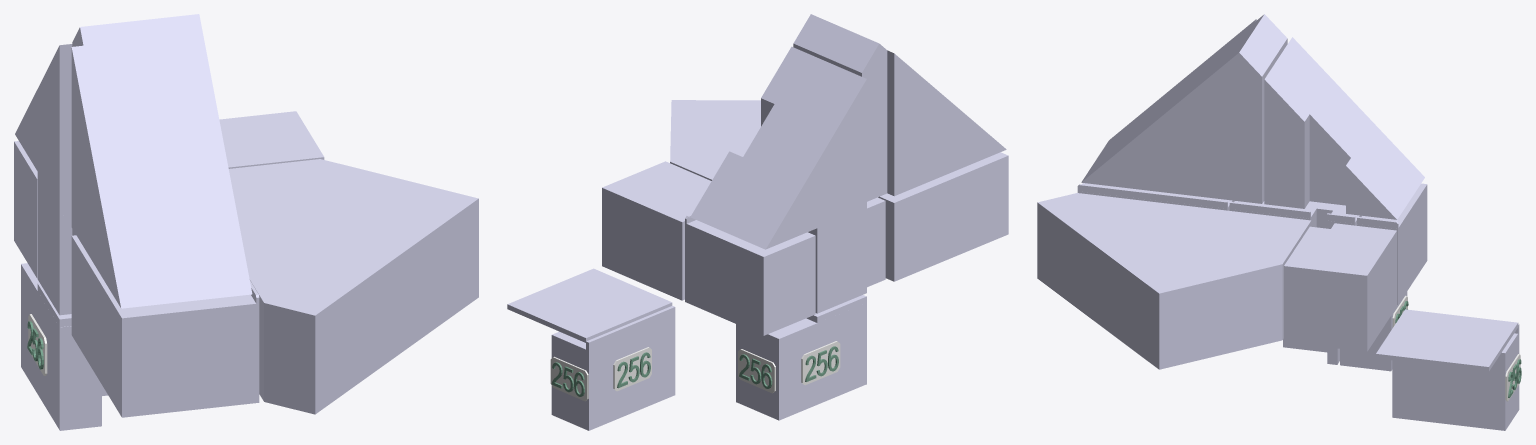
3 renders of one model, left to right at view 1: azimuth 30°, elevation 25°; view 2: azimuth 150°, elevation 25°; view 3: azimuth 270°, elevation 25°, orthographic. The views are drawn at different scales.
Parts seen in each view (by area): view 1: g_5, g_2, g_6, g_12, g_4, g_10, g_11, g_9, g_0, g_3, g_21; view 2: g_2, g_3, g_9, g_6, g_10, g_1, g_4, g_13, g_5, g_0, g_12, g_11 (+5 smaller); view 3: g_5, g_2, g_3, g_10, g_1, g_13, g_9, g_7, g_6, g_4, g_0, g_12.
Part boxes in pixels (box(x1,y1,x2,y2)): g_5: box(228, 159, 478, 414); g_2: box(71, 14, 252, 308); g_6: box(71, 235, 259, 417); g_12: box(32, 282, 108, 430); g_4: box(37, 44, 72, 207); g_10: box(219, 111, 324, 168); g_11: box(37, 173, 72, 315); g_9: box(14, 141, 37, 278); g_0: box(21, 263, 39, 385); g_3: box(15, 89, 37, 170); g_21: box(28, 314, 47, 375); g_2: box(793, 14, 1006, 201); g_3: box(686, 46, 839, 249); g_9: box(685, 214, 815, 335); g_6: box(878, 152, 1008, 281); g_10: box(602, 161, 711, 300); g_1: box(551, 305, 675, 430); g_4: box(792, 67, 866, 228); g_13: box(507, 268, 672, 342); g_5: box(670, 100, 760, 180); g_0: box(736, 323, 805, 420); g_12: box(795, 295, 866, 409); g_11: box(808, 208, 866, 313); g_5: box(1037, 193, 1311, 369); g_2: box(1081, 14, 1287, 203); g_3: box(1264, 52, 1424, 222); g_10: box(1284, 223, 1396, 351); g_1: box(1392, 324, 1519, 430); g_13: box(1376, 309, 1518, 371); g_9: box(1357, 183, 1427, 304); g_7: box(1229, 201, 1361, 228); g_6: box(1077, 183, 1234, 210); g_4: box(1282, 37, 1356, 119); g_0: box(1340, 291, 1407, 371); g_12: box(1283, 338, 1339, 364).
Bounding box in the file's own units: 9.92 × 10.1 × 13.83.
